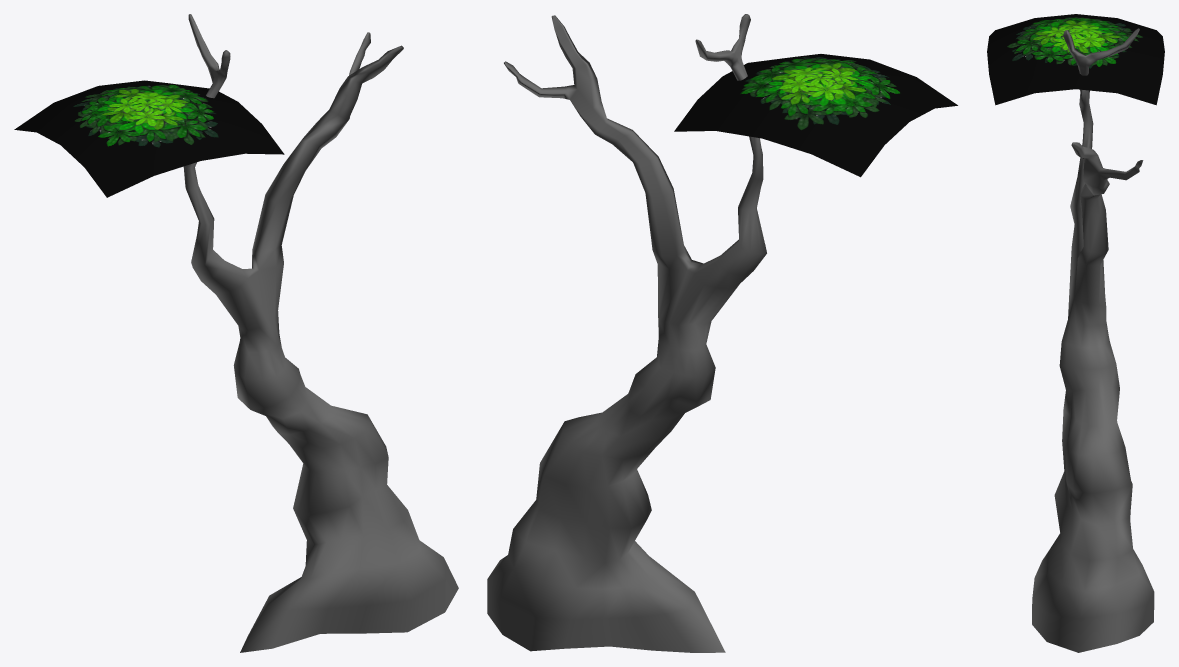
The model's file is arbol_hoja_prueba.fbx.
3 renders of one model, left to right at view 1: azimuth 30°, elevation 25°; view 2: azimuth 150°, elevation 25°; view 3: azimuth 270°, elevation 25°, orthographic. The views are drawn at different scales.
Visible parts, largest first — view 1: arbol_lp:polySurface1, Plane001; view 2: arbol_lp:polySurface1, Plane001; view 3: arbol_lp:polySurface1, Plane001.
Boxes of the visible parts, x1,y1,x2,y2 form: arbol_lp:polySurface1: (183,14,458,652); Plane001: (14,80,284,197); arbol_lp:polySurface1: (487,14,766,652); Plane001: (674,54,957,177); arbol_lp:polySurface1: (1032,28,1154,652); Plane001: (987,14,1164,105).
Bounding box in the file's own units: 2.18 × 3.2 × 0.9686.
Materials: 2 (1 with a texture image).
